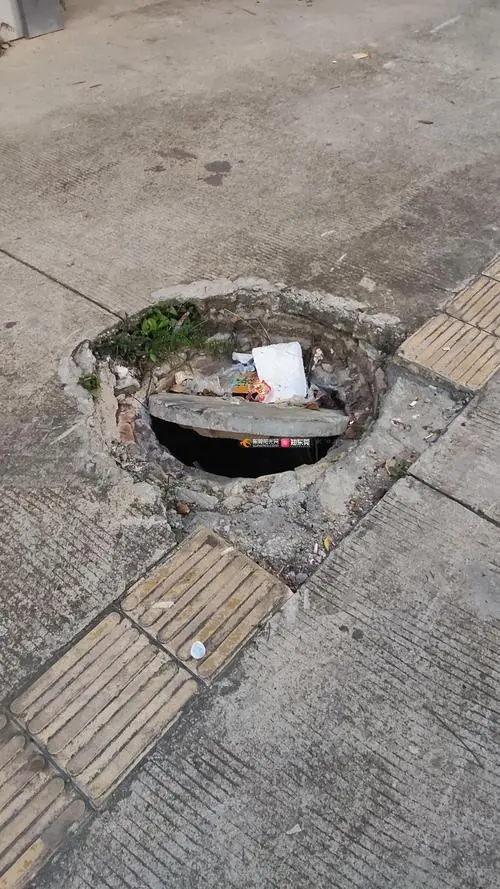circle: (44, 270, 453, 571)
